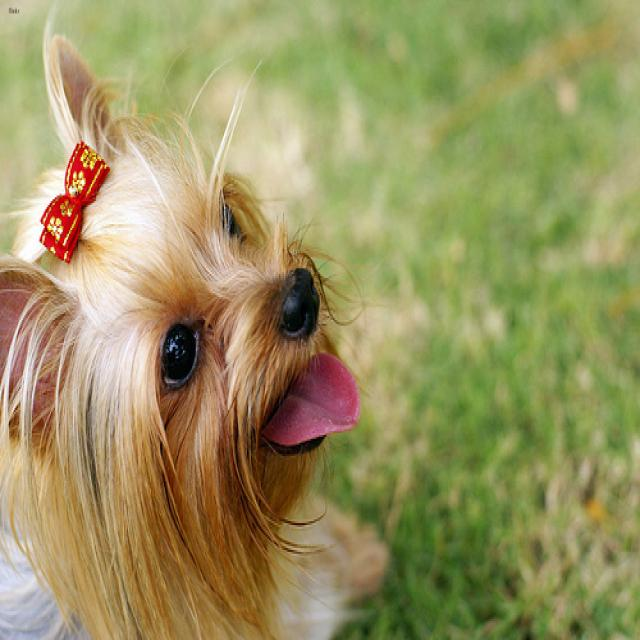dog-yorkshire_terrier: (1, 25, 390, 636)
